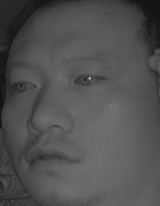eye: (72, 68, 106, 90), (10, 76, 39, 95)
mouth: (23, 140, 79, 174)
